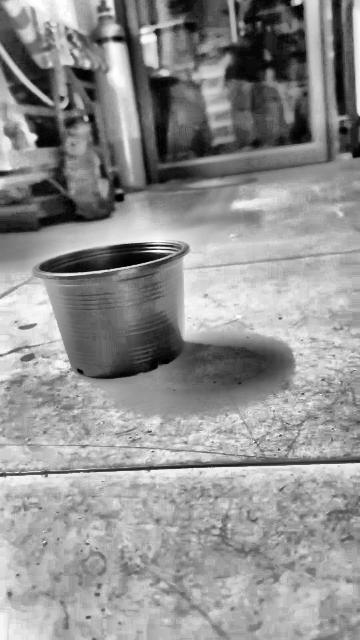pot: (33, 242, 188, 379)
